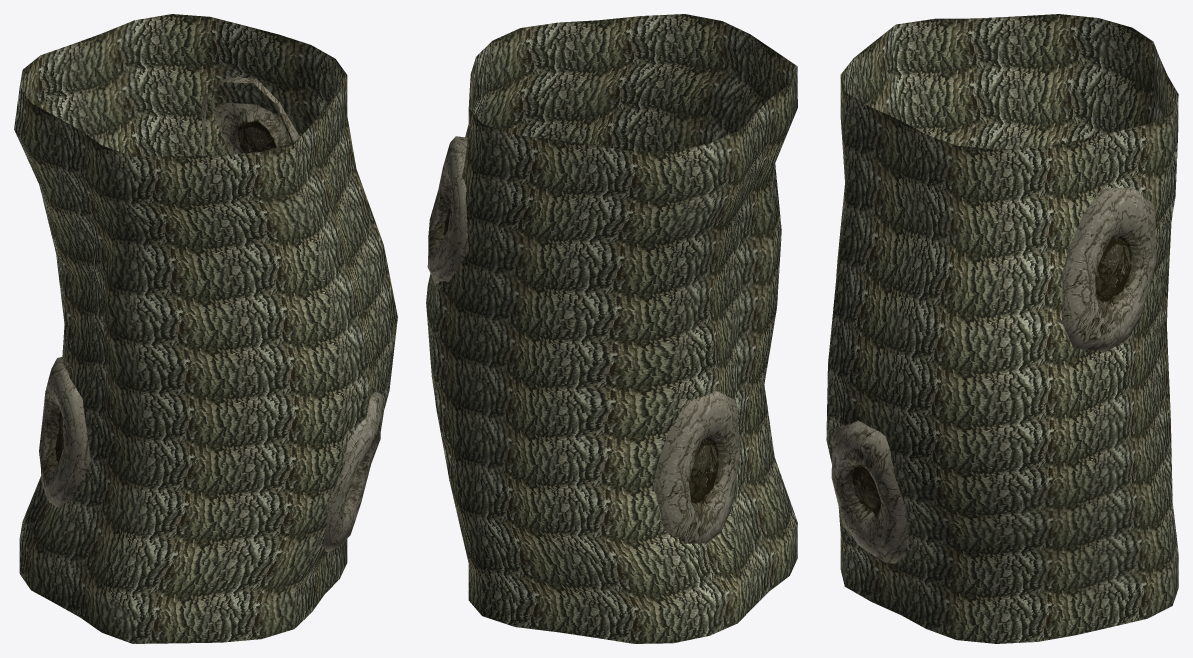
File: Stump11.fbx
The picture shows the model from 3 angles, left to right: view 1: azimuth 30°, elevation 25°; view 2: azimuth 150°, elevation 25°; view 3: azimuth 270°, elevation 25°; orthographic projection.
Parts seen in each view (by area): view 1: Stump11; view 2: Stump11; view 3: Stump11.
Boxes of the visible parts, bbox=[...] form: Stump11: bbox=[14, 14, 397, 643]; Stump11: bbox=[426, 14, 797, 643]; Stump11: bbox=[826, 14, 1178, 643].
Size of the model in its own units: 14 by 20 by 12.91.
2 materials, 2 textured.
